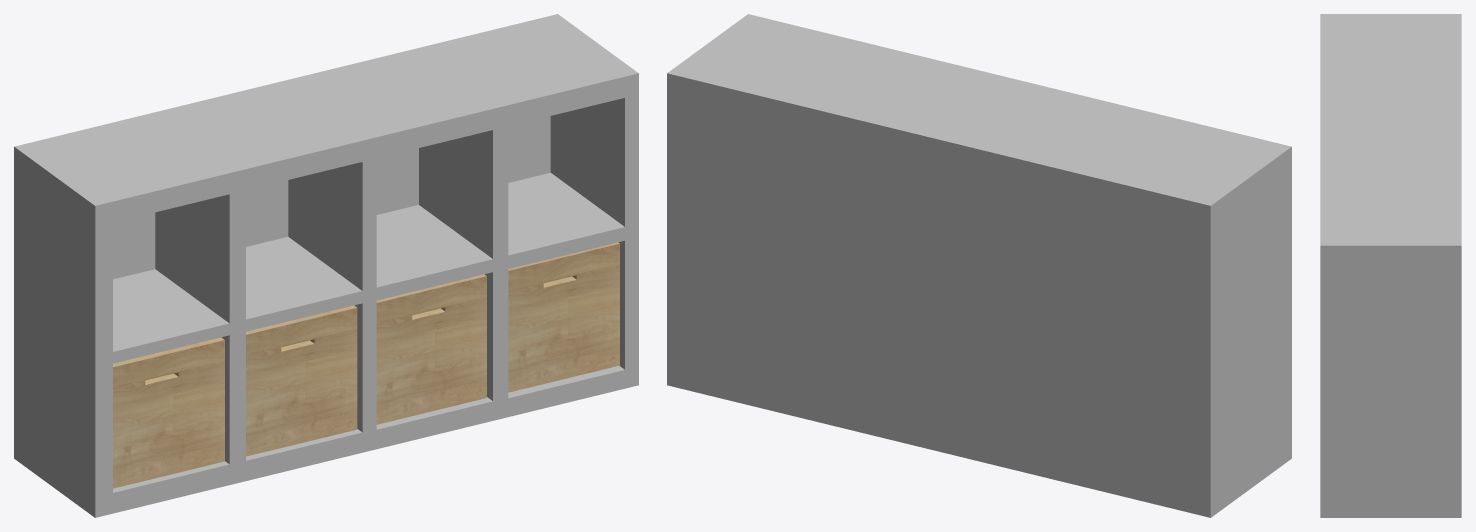
File: ikea syrtariera.fbx
The picture shows the model from 3 angles, left to right: view 1: azimuth 30°, elevation 25°; view 2: azimuth 150°, elevation 25°; view 3: azimuth 270°, elevation 25°; orthographic projection. The views are drawn at different scales.
Visible parts, largest first — view 1: Box001, Box010, Box007, Box009, Box008; view 2: Box001; view 3: Box001.
Part boxes in pixels (box(x1,y1,x2,y2)): Box001: box(14, 14, 638, 517); Box010: box(113, 337, 224, 488); Box007: box(246, 305, 357, 456); Box009: box(508, 242, 619, 392); Box008: box(376, 274, 486, 424); Box001: box(667, 14, 1291, 517); Box001: box(1320, 14, 1461, 517).
Bounding box in the file's own units: 43.12 × 23.65 × 11.13.
